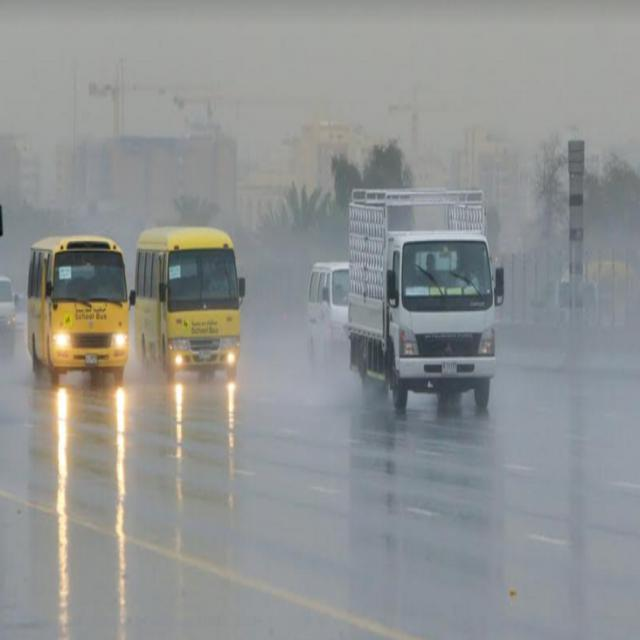bus: (348, 189, 500, 414)
car: (307, 259, 351, 377), (2, 276, 16, 362)
truck: (131, 230, 241, 382), (24, 234, 132, 376)
